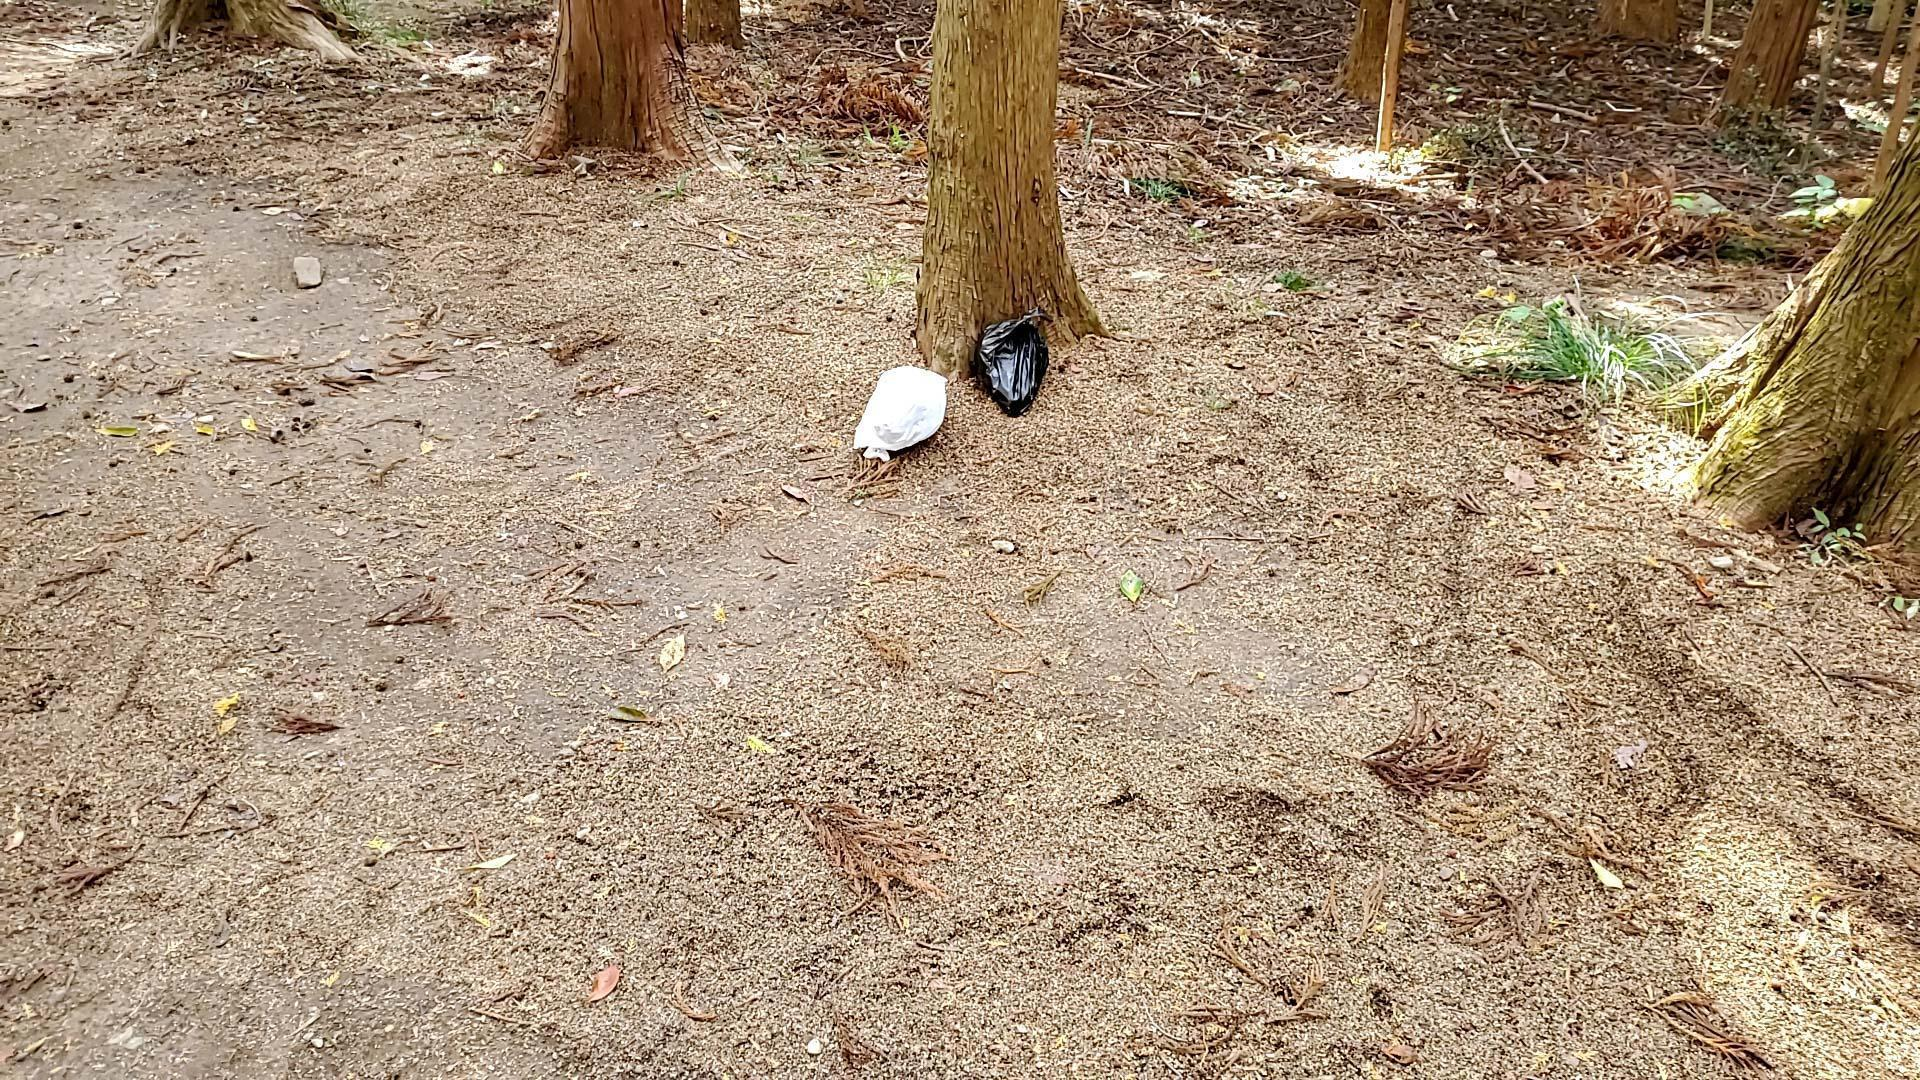black_bag: (968, 303, 1058, 421)
white_bag: (843, 360, 955, 465)
